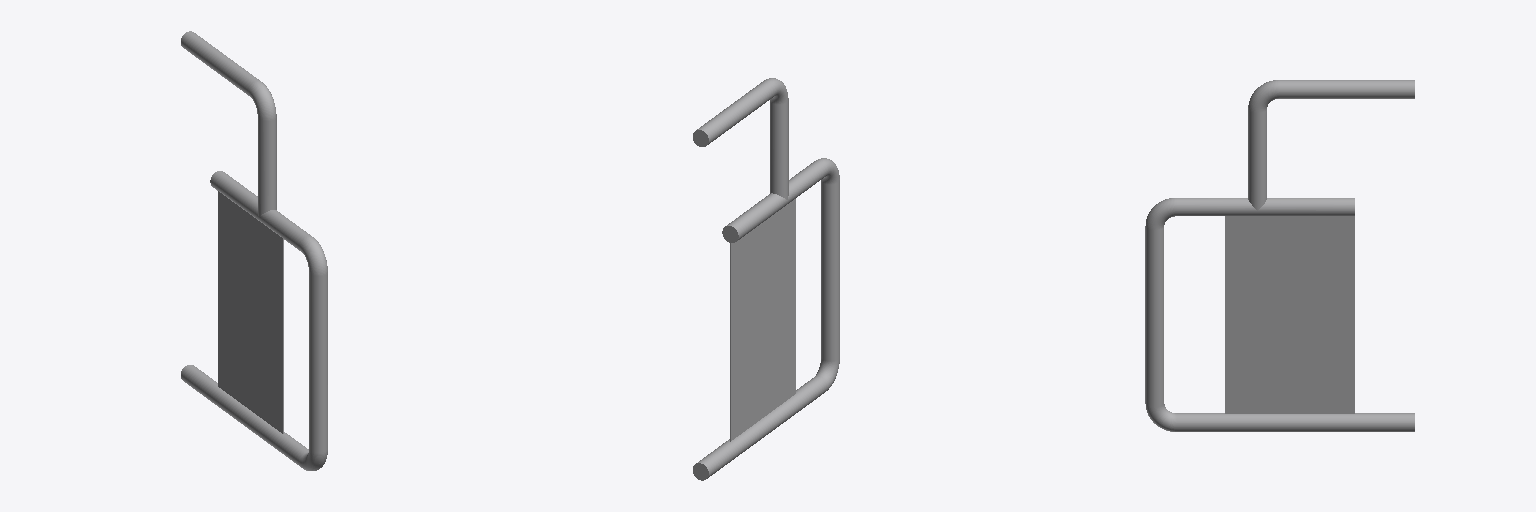
Rendered from left_panel_visual.obj.
3 renders of one model, left to right at view 1: azimuth 30°, elevation 25°; view 2: azimuth 150°, elevation 25°; view 3: azimuth 270°, elevation 25°, orthographic.
Parts seen in each view (by area): view 1: left_panel_visual.001; view 2: left_panel_visual.001; view 3: left_panel_visual.001.
Boxes of the visible parts, x1=… form: left_panel_visual.001: x1=181, y1=31, x2=327, y2=470; left_panel_visual.001: x1=693, y1=78, x2=839, y2=480; left_panel_visual.001: x1=1145, y1=80, x2=1414, y2=431.
Bounding box in the file's own units: 0.0222 × 0.454 × 0.3159.